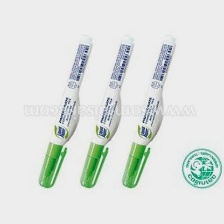correction_fluid: (119, 31, 179, 190), (76, 33, 137, 189), (35, 33, 94, 190)
